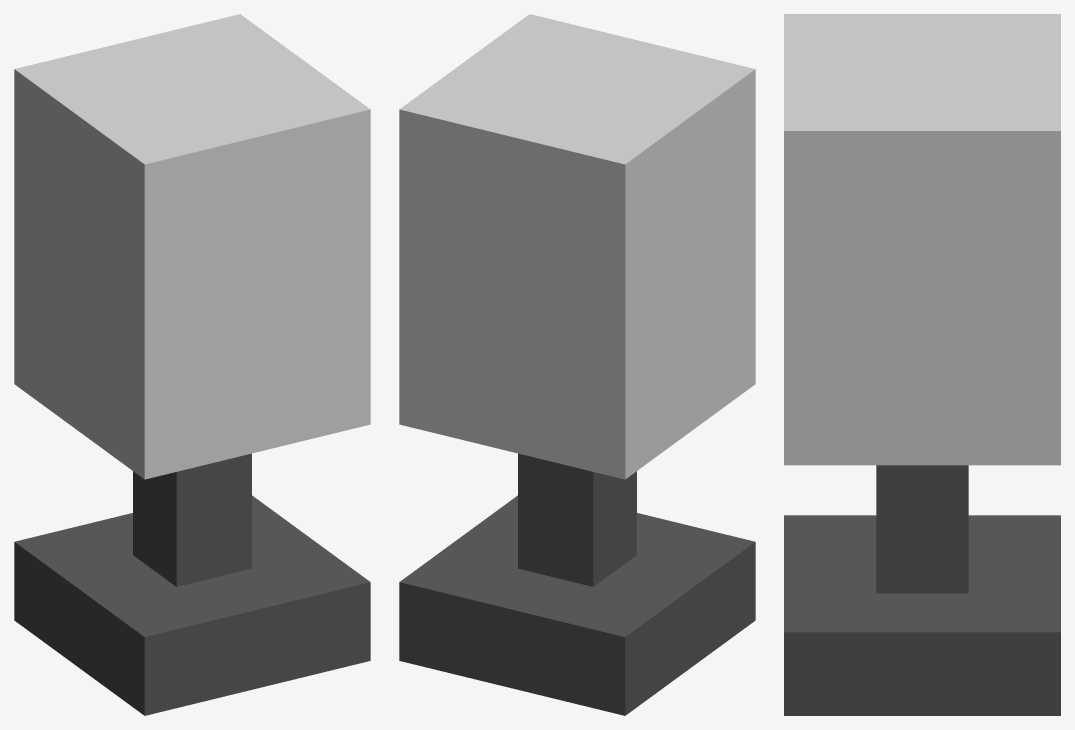
Rendered from lamp_02.glb.
3 renders of one model, left to right at view 1: azimuth 30°, elevation 25°; view 2: azimuth 150°, elevation 25°; view 3: azimuth 270°, elevation 25°, orthographic. The views are drawn at different scales.
Visible parts, largest first — view 1: Untitled, Untitled.001; view 2: Untitled, Untitled.001; view 3: Untitled, Untitled.001.
Boxes of the visible parts, left/top/right/bottom form: Untitled: left=14, top=14, right=370, bottom=479; Untitled.001: left=14, top=453, right=370, bottom=715; Untitled: left=399, top=14, right=755, bottom=479; Untitled.001: left=399, top=453, right=755, bottom=715; Untitled: left=784, top=14, right=1060, bottom=465; Untitled.001: left=784, top=465, right=1060, bottom=715.
Bounding box in the file's own units: 0.18 × 0.42 × 0.18.
2 materials, 2 textured.
